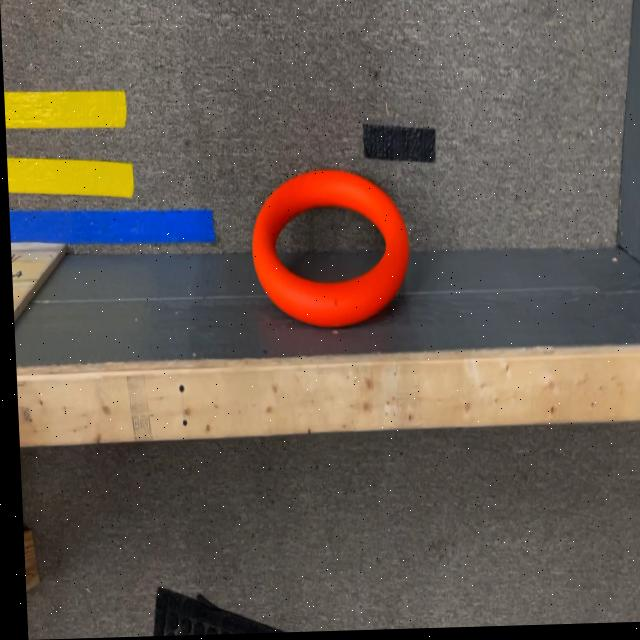note: (249, 169, 411, 331)
